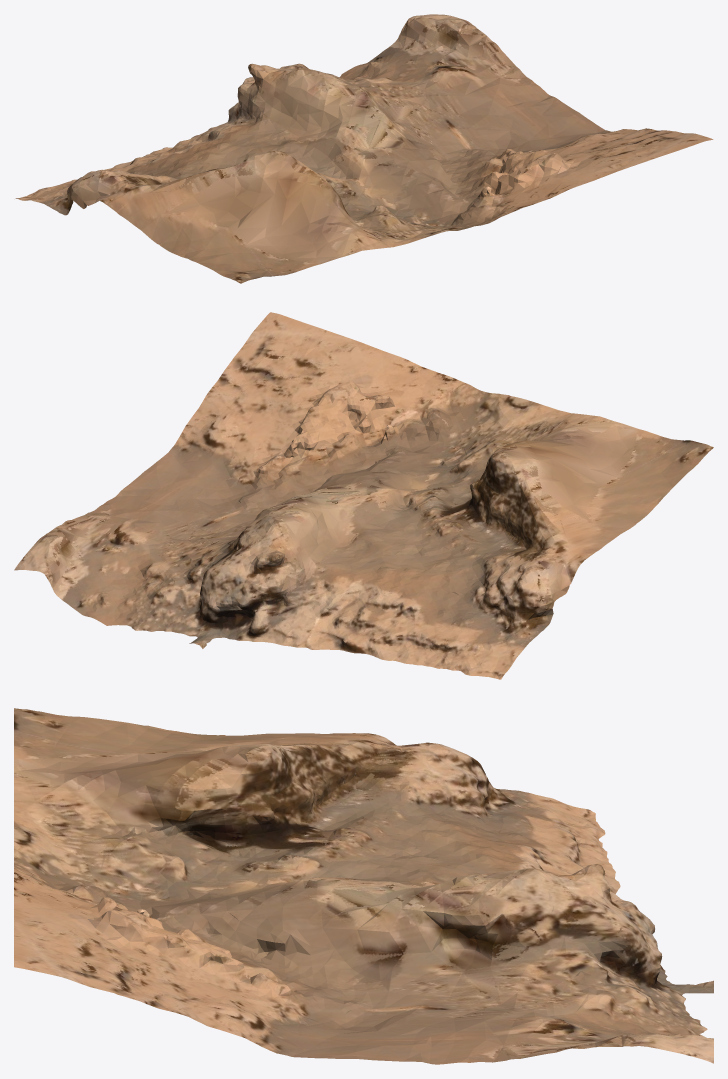
3 views of the same model, one above another, from view 1: azimuth 30°, elevation 25°; view 2: azimuth 150°, elevation 25°; view 3: azimuth 270°, elevation 25° (orthographic). The views are drawn at different scales.
Size of the model in its own units: 1.04 by 0.237 by 1.04.
3 materials, 3 textured.
